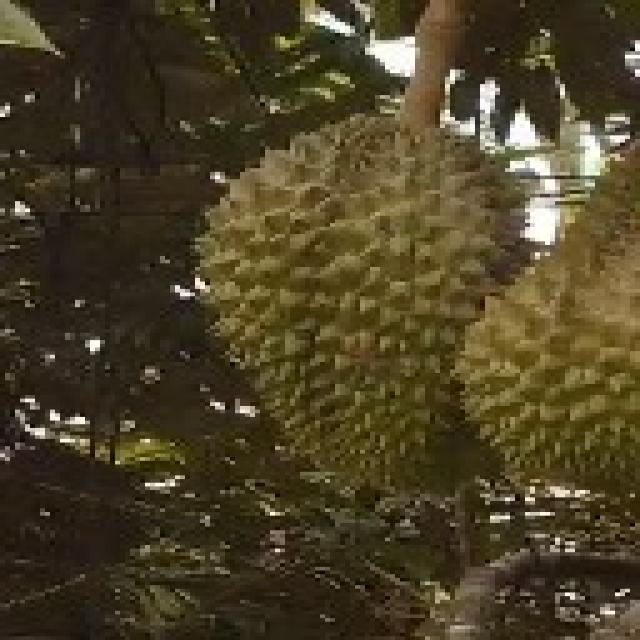immature: (193, 109, 534, 502)
